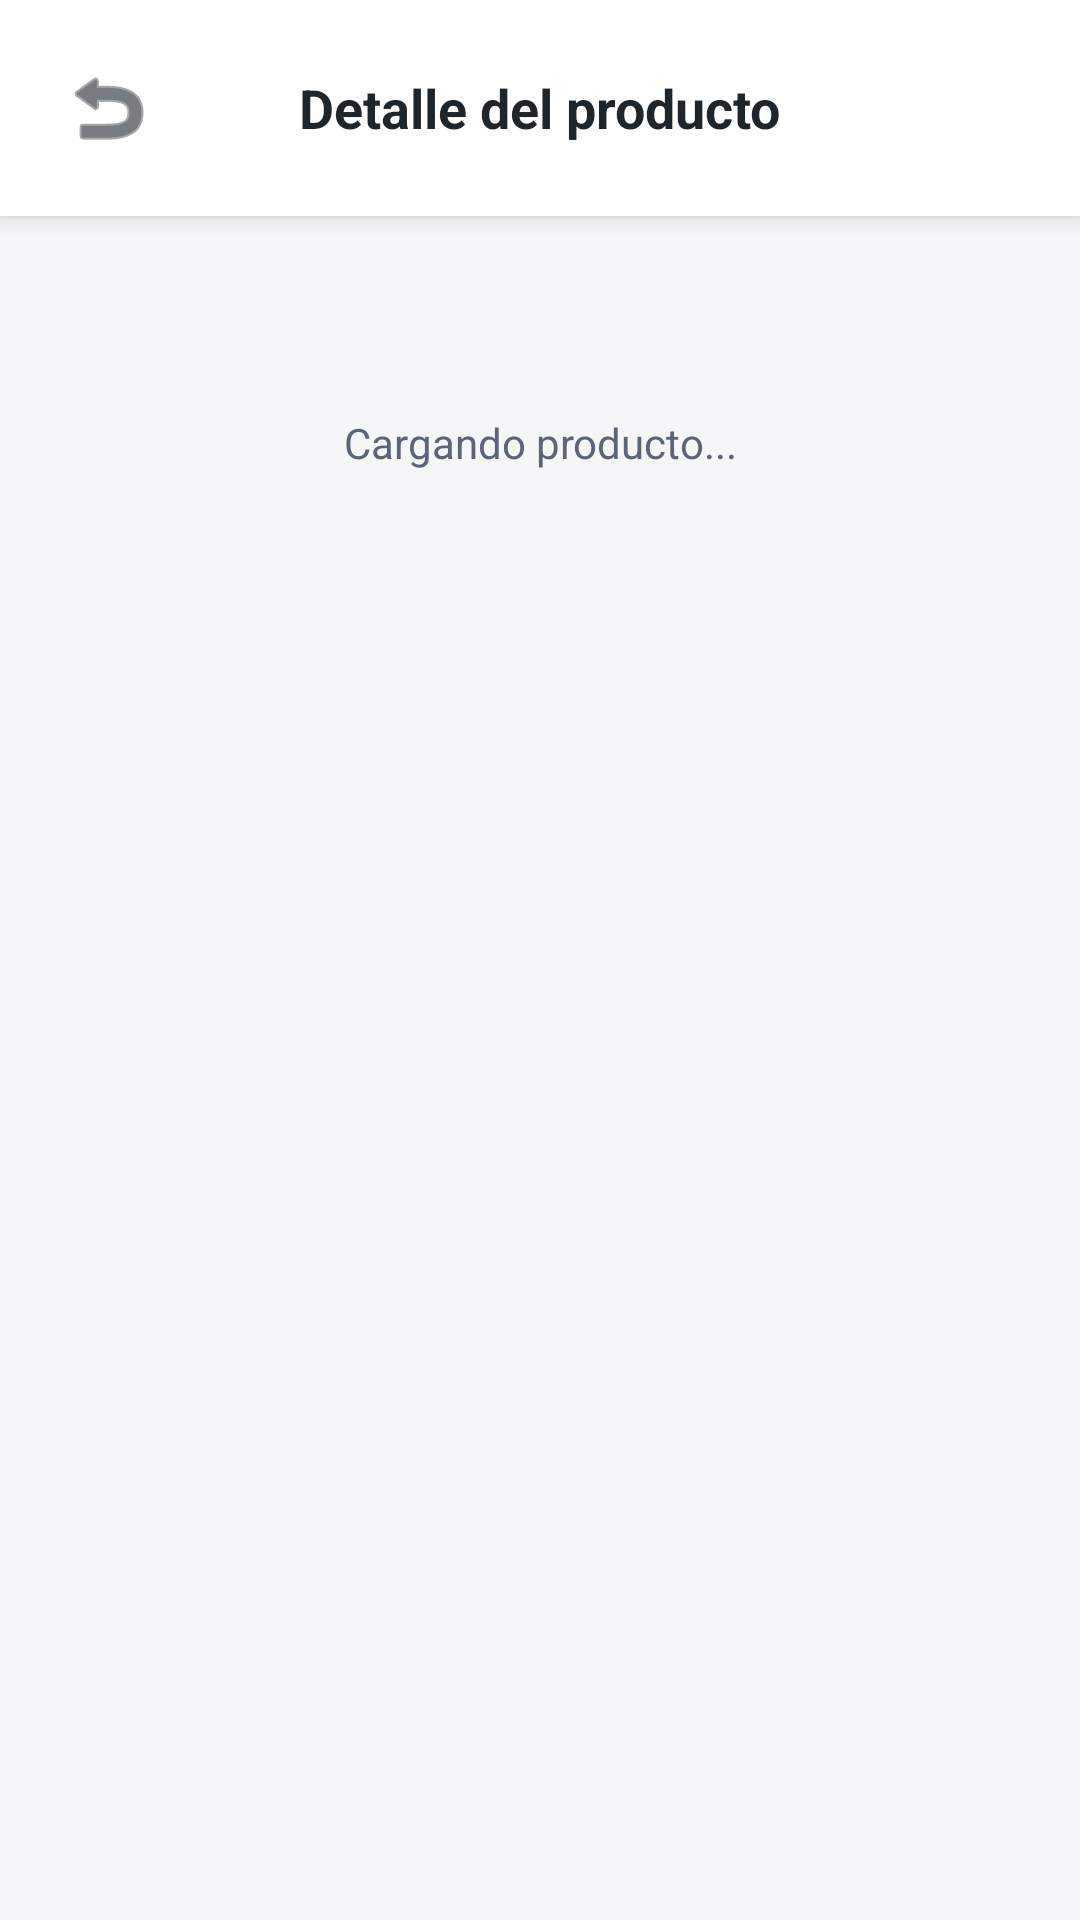

Icon click points for this 1080px x 1920px phone screenshot, format (x=x, y=y):
Volver: (x=109, y=108)
